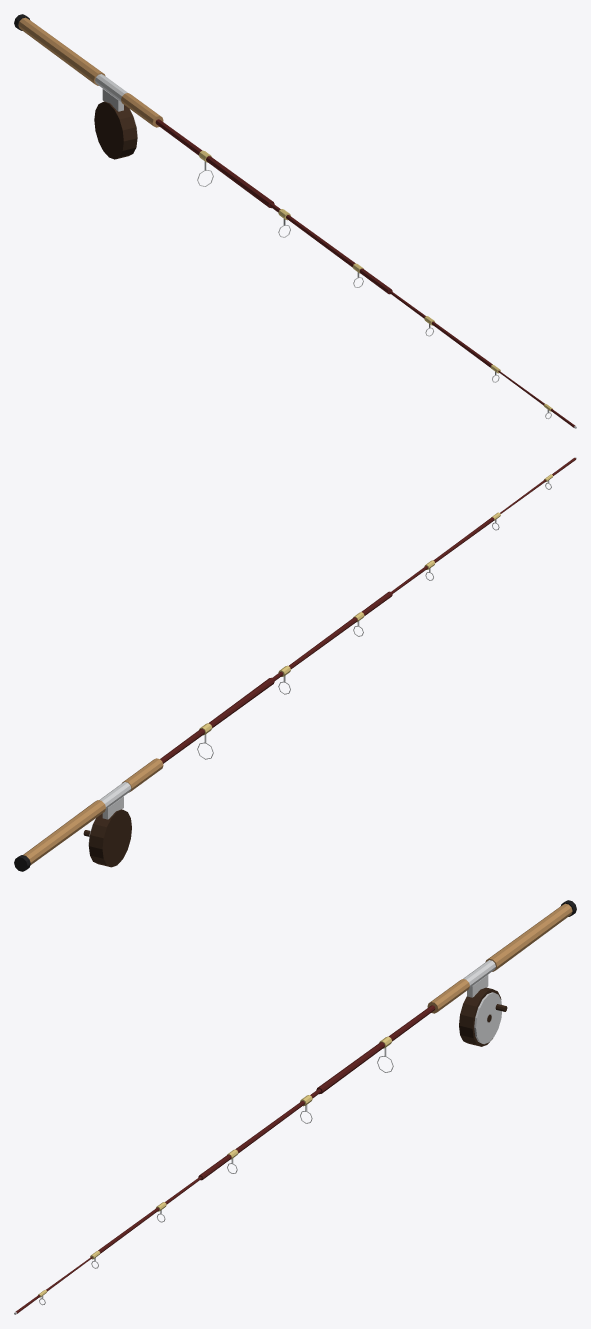
File: fishing_rod.glb
3 renders of one model, top to bottom at view 1: azimuth 30°, elevation 25°; view 2: azimuth 150°, elevation 25°; view 3: azimuth 330°, elevation 25°, orthographic.
Visible parts, largest first — view 1: FishingRod; view 2: FishingRod; view 3: FishingRod.
Part boxes in pixels (x1,y1,x2,y2): FishingRod: [14, 14, 576, 428]; FishingRod: [14, 457, 576, 871]; FishingRod: [14, 900, 576, 1314].
Size of the model in its own units: 0.0619 by 0.1553 by 2.1.
